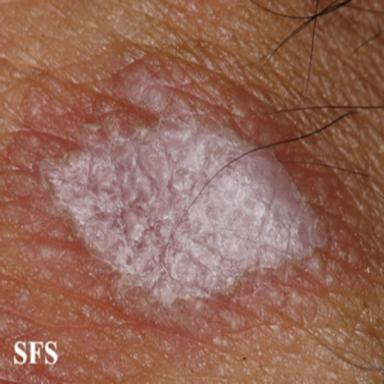lichen: (0, 39, 384, 347)
